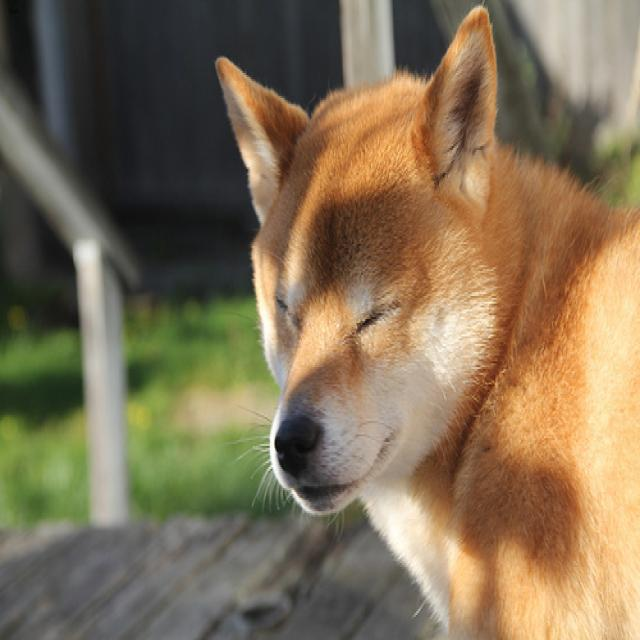dog-shiba_inu: (209, 2, 637, 636)
